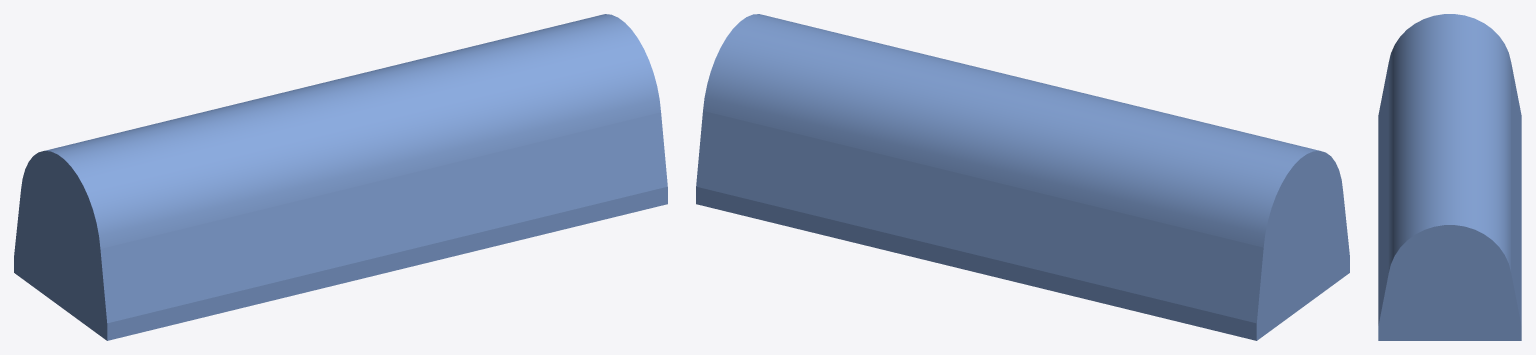
Rendered from MID (2).glb.
3 views of the same model, side by side, from view 1: azimuth 30°, elevation 25°; view 2: azimuth 150°, elevation 25°; view 3: azimuth 270°, elevation 25° (orthographic). The views are drawn at different scales.
Visible parts, largest first — view 1: ID2; view 2: ID2; view 3: ID2.
Boxes of the visible parts, <box> form: ID2: <box>14,14,667,340</box>; ID2: <box>696,14,1349,340</box>; ID2: <box>1378,14,1521,340</box>.
Size of the model in its own units: 16.7 by 4.28 by 4.8.
